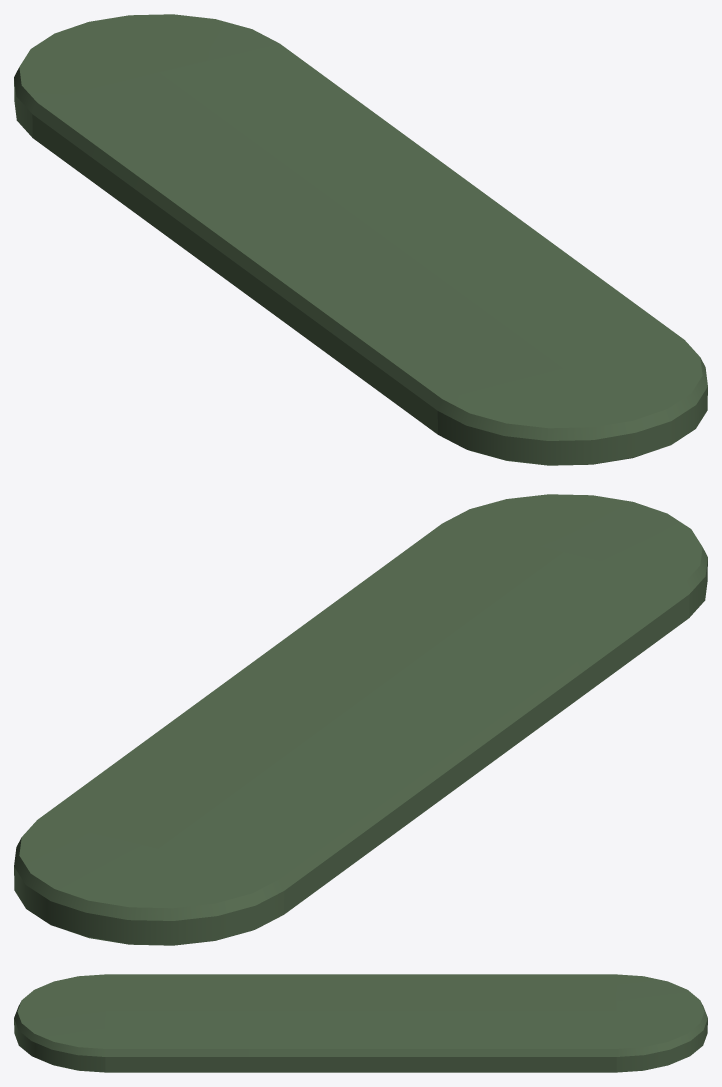
Rendered from Checker_Sp_012.fbx.
3 renders of one model, top to bottom at view 1: azimuth 30°, elevation 25°; view 2: azimuth 150°, elevation 25°; view 3: azimuth 270°, elevation 25°, orthographic. The views are drawn at different scales.
Visible parts, largest first — view 1: Checker_Sp_012; view 2: Checker_Sp_012; view 3: Checker_Sp_012.
Boxes of the visible parts, bbox=[...] form: Checker_Sp_012: bbox=[14, 14, 707, 465]; Checker_Sp_012: bbox=[14, 494, 707, 945]; Checker_Sp_012: bbox=[14, 974, 707, 1072].
Size of the model in its own units: 5.62 by 0.8372 by 21.27.
